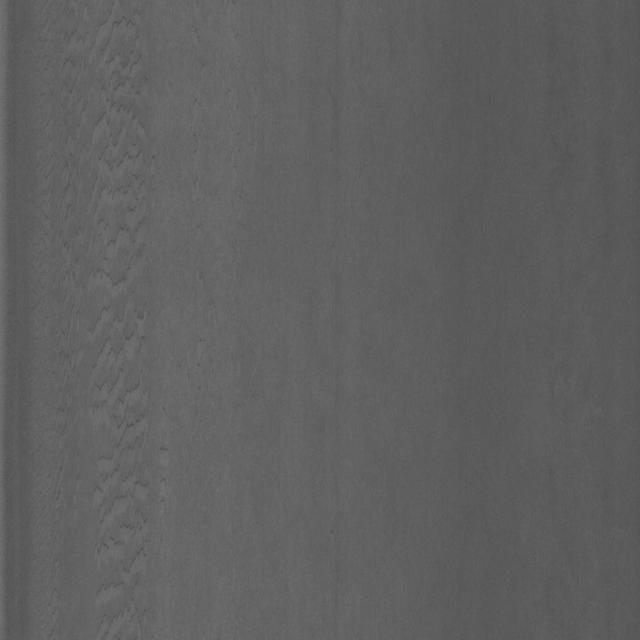inclusion: (54, 21, 182, 604)
